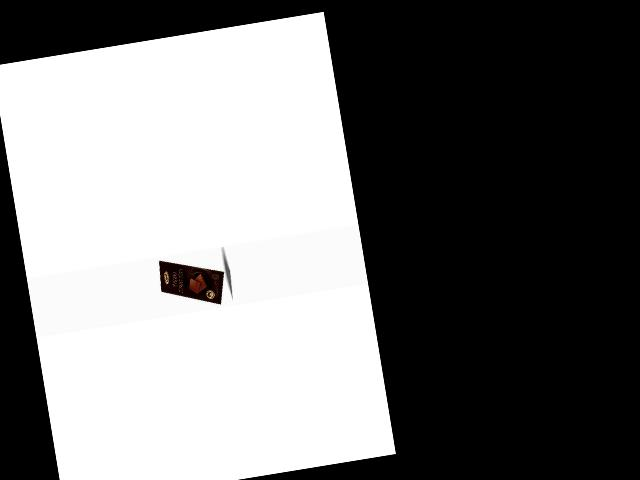chocolate: (155, 249, 232, 315)
